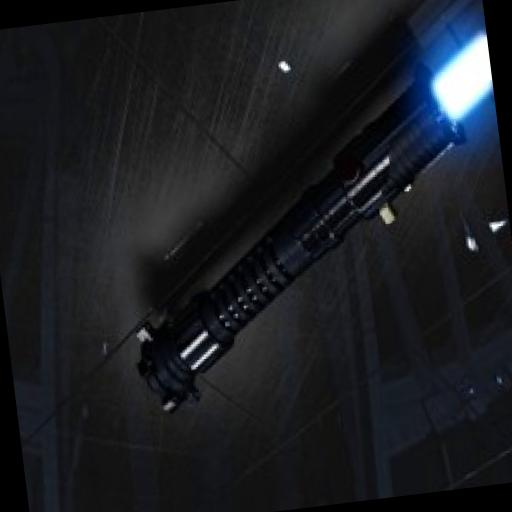lightsaber: (102, 31, 512, 418)
